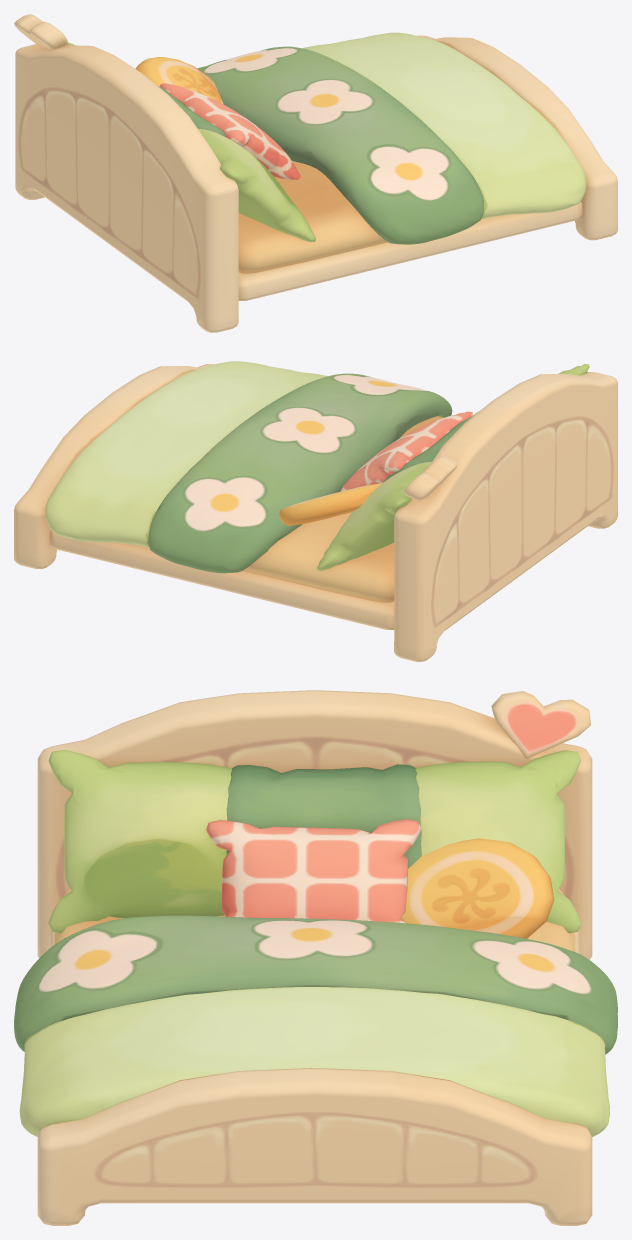
File: bed.glb
The picture shows the model from 3 angles, top to bottom: view 1: azimuth 30°, elevation 25°; view 2: azimuth 150°, elevation 25°; view 3: azimuth 270°, elevation 25°; orthographic projection. The views are drawn at different scales.
Visible parts, largest first — view 1: Plane, Plane.003, Plane.001, Plane.002, Plane.009, Plane.008, Plane.004, Plane.005, Plane.007, Circle, Plane.006; view 2: Plane, Plane.003, Plane.001, Plane.009, Plane.008, Plane.002, Plane.004, Plane.005, Plane.007, Circle, Plane.006; view 3: Plane.008, Plane.001, Plane.003, Plane.004, Plane, Plane.005, Plane.007, Plane.006, Circle, Plane.002.
Part boxes in pixels (x1,y1,x2,y2): Plane: [15, 44, 238, 332]; Plane.003: [197, 46, 483, 244]; Plane.001: [302, 32, 586, 219]; Plane.002: [238, 161, 387, 273]; Plane.009: [238, 202, 582, 300]; Plane.008: [417, 35, 617, 240]; Plane.004: [68, 42, 315, 242]; Plane.005: [160, 83, 300, 179]; Plane.007: [135, 57, 223, 103]; Circle: [14, 14, 68, 49]; Plane.006: [157, 85, 225, 136]; Plane: [394, 372, 617, 661]; Plane.003: [148, 373, 452, 573]; Plane.001: [45, 361, 327, 547]; Plane.009: [49, 530, 394, 629]; Plane.008: [14, 364, 214, 568]; Plane.002: [243, 416, 444, 602]; Plane.004: [316, 364, 589, 571]; Plane.005: [340, 411, 473, 491]; Plane.007: [278, 483, 382, 525]; Circle: [404, 456, 457, 500]; Plane.006: [383, 416, 472, 482]; Plane.008: [37, 1068, 592, 1225]; Plane.001: [19, 987, 609, 1136]; Plane.003: [14, 915, 617, 1054]; Plane.004: [48, 749, 580, 933]; Plane: [37, 690, 592, 959]; Plane.005: [206, 819, 421, 923]; Plane.007: [400, 838, 554, 938]; Plane.006: [226, 764, 421, 868]; Circle: [491, 691, 590, 758]; Plane.002: [54, 888, 575, 951].
Size of the model in its own units: 2.4 by 1.03 by 2.15.
Materials: 1 (1 with a texture image).
